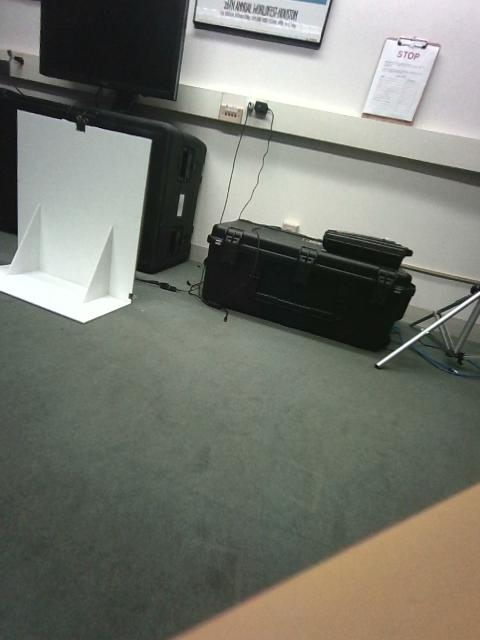block: (30, 266, 66, 300)
